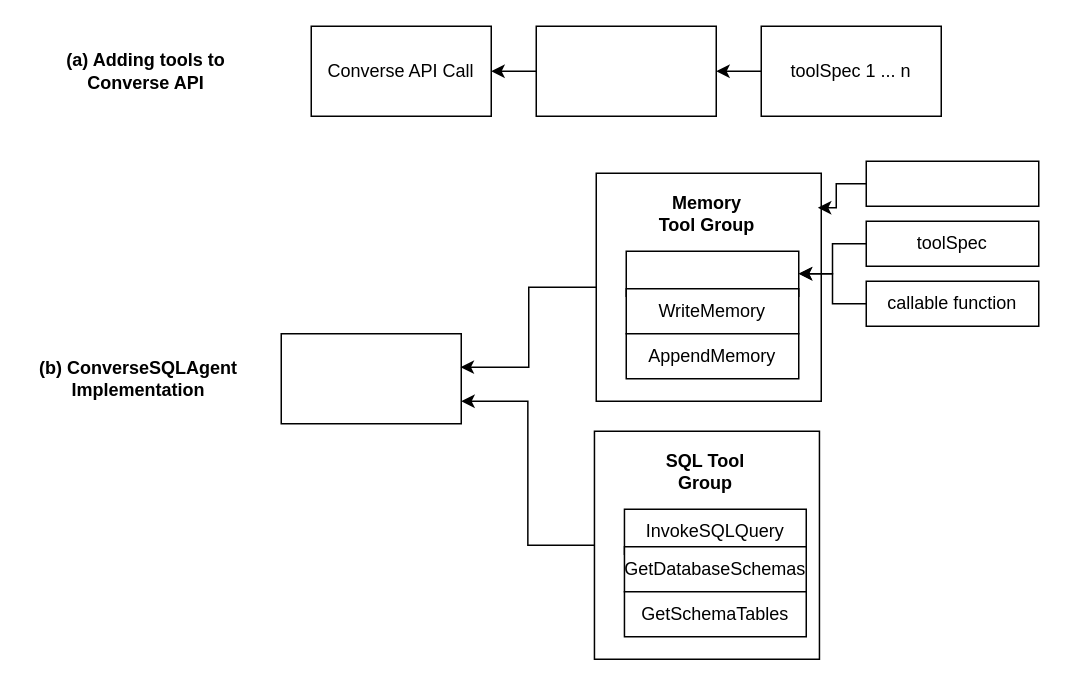
The diagram is 1065 pixels wide and 686 high, and some of its shapes have lost their labels. Here are the shapes that lost their labels. From the top down, the box of each, then its label:
(535, 25, 716, 116): toolConfig
(865, 160, 1039, 206): Tool Group Instructions
(625, 250, 799, 296): ReadMemory
(280, 332, 461, 424): Agent
